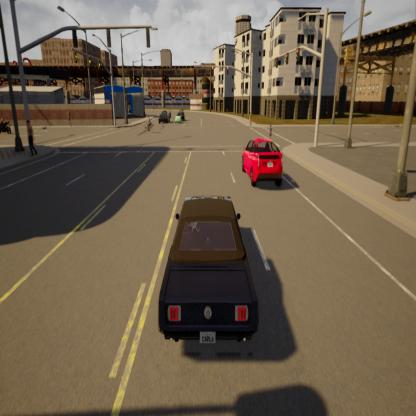Cars: (160, 194, 261, 361), (241, 136, 285, 191), (142, 112, 156, 138), (157, 110, 170, 125), (175, 112, 183, 122)
Pedestrian: (25, 119, 36, 155)
